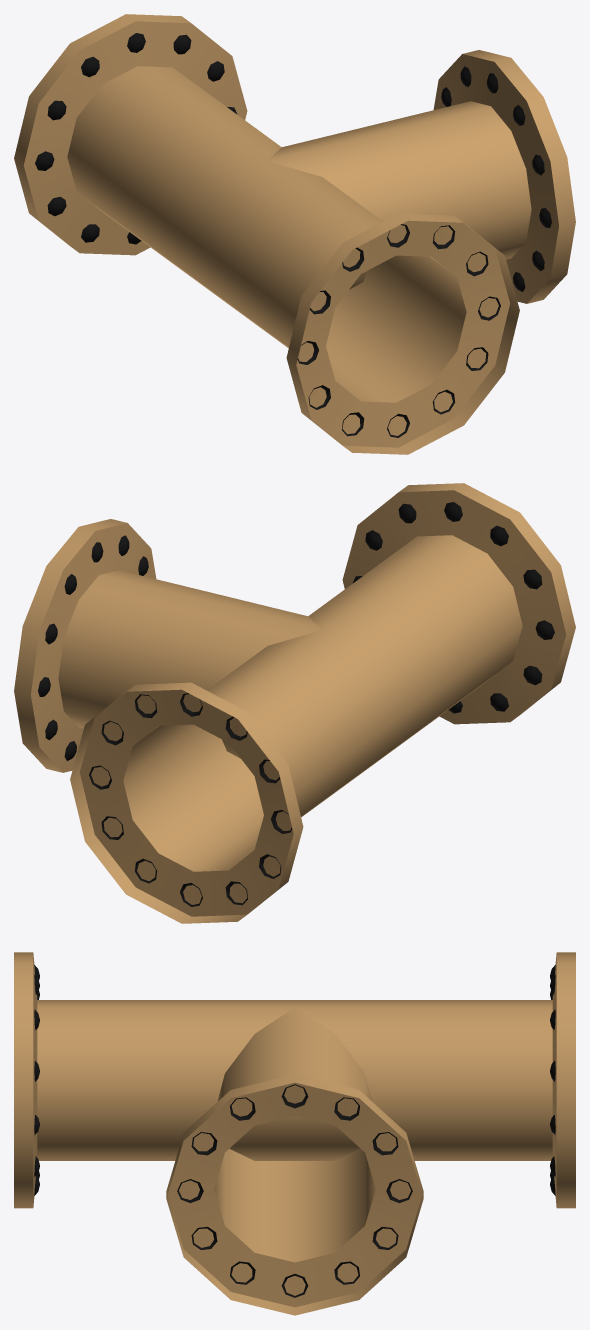
Rendered from threeWayPipe_mesh.fbx.
The picture shows the model from 3 angles, top to bottom: view 1: azimuth 30°, elevation 25°; view 2: azimuth 150°, elevation 25°; view 3: azimuth 270°, elevation 25°; orthographic projection.
Parts seen in each view (by area): view 1: threeWayPipe; view 2: threeWayPipe; view 3: threeWayPipe.
Part boxes in pixels (x1,y1,x2,y2): threeWayPipe: [14, 14, 575, 454]; threeWayPipe: [14, 483, 575, 923]; threeWayPipe: [14, 952, 575, 1315].
Size of the model in its own units: 0.7288 by 0.4576 by 1.
